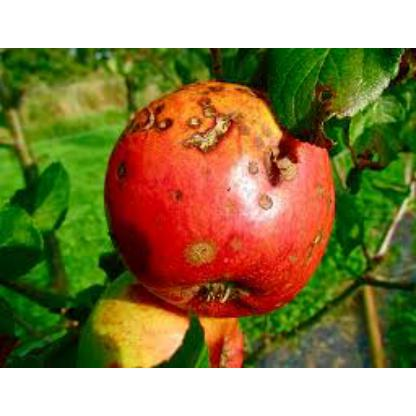apple: (106, 84, 330, 304)
